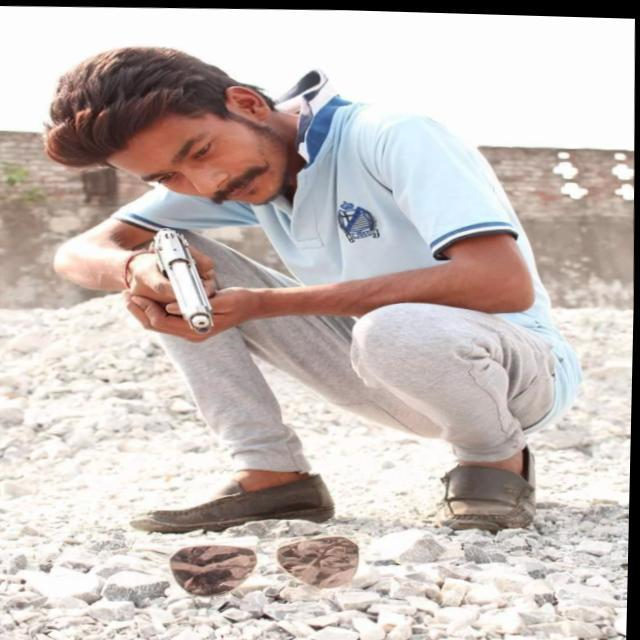weapon: (138, 220, 228, 340)
